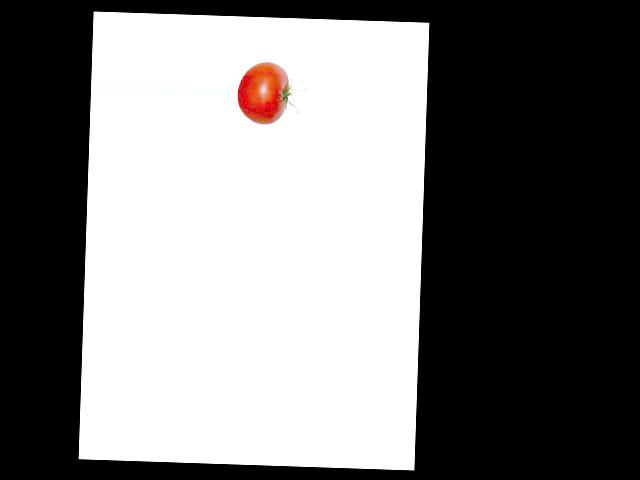tomato: (236, 60, 290, 124)
